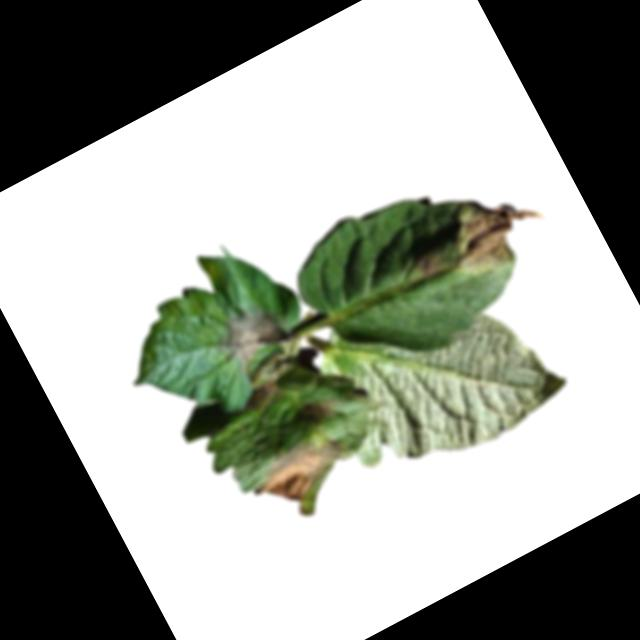Late_blight: (428, 172, 558, 291), (243, 424, 360, 520), (212, 291, 297, 374), (238, 377, 289, 418), (297, 390, 341, 429), (413, 248, 446, 280)
